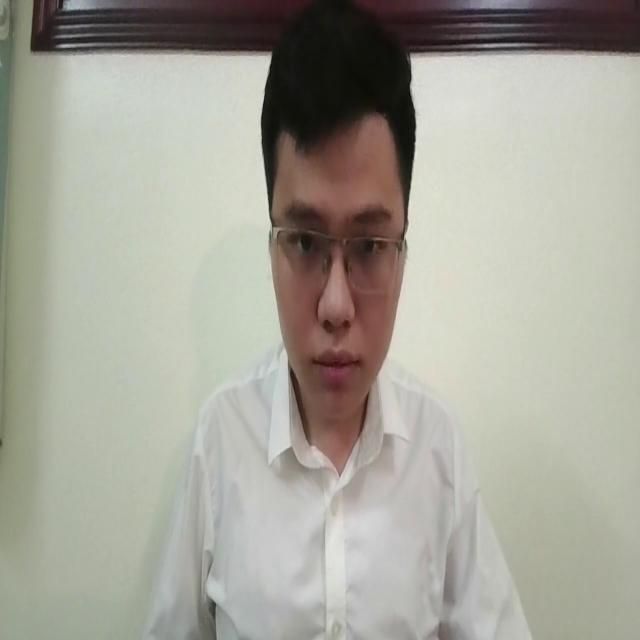student: (131, 8, 530, 640)
